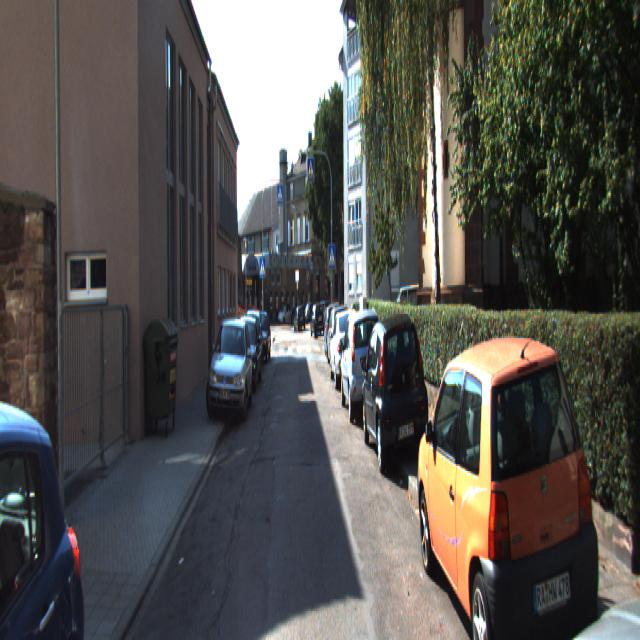Car: (413, 328, 611, 638), (0, 357, 93, 638), (363, 310, 431, 470), (339, 304, 387, 420), (207, 312, 252, 427), (328, 309, 362, 389), (230, 312, 264, 392), (394, 280, 432, 341), (249, 310, 271, 362)
